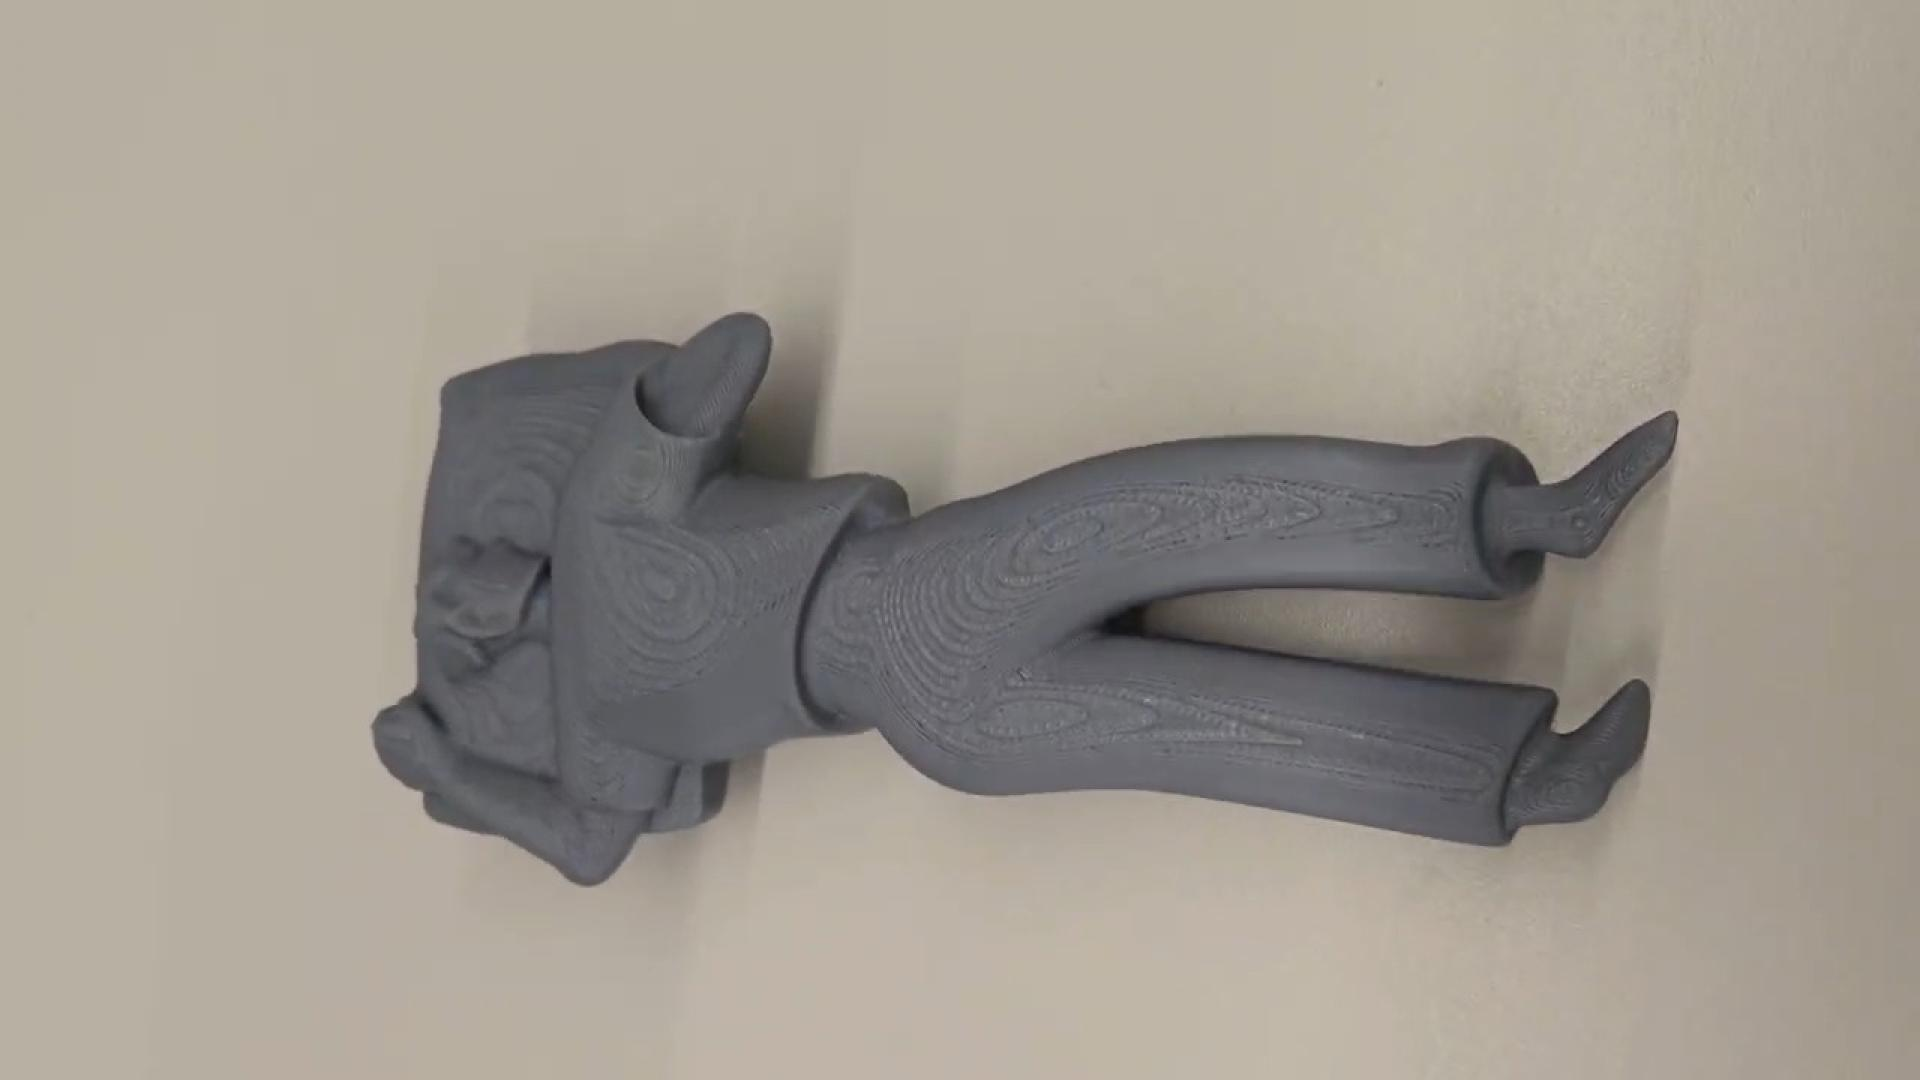Bad-style: (367, 299, 1684, 910)
